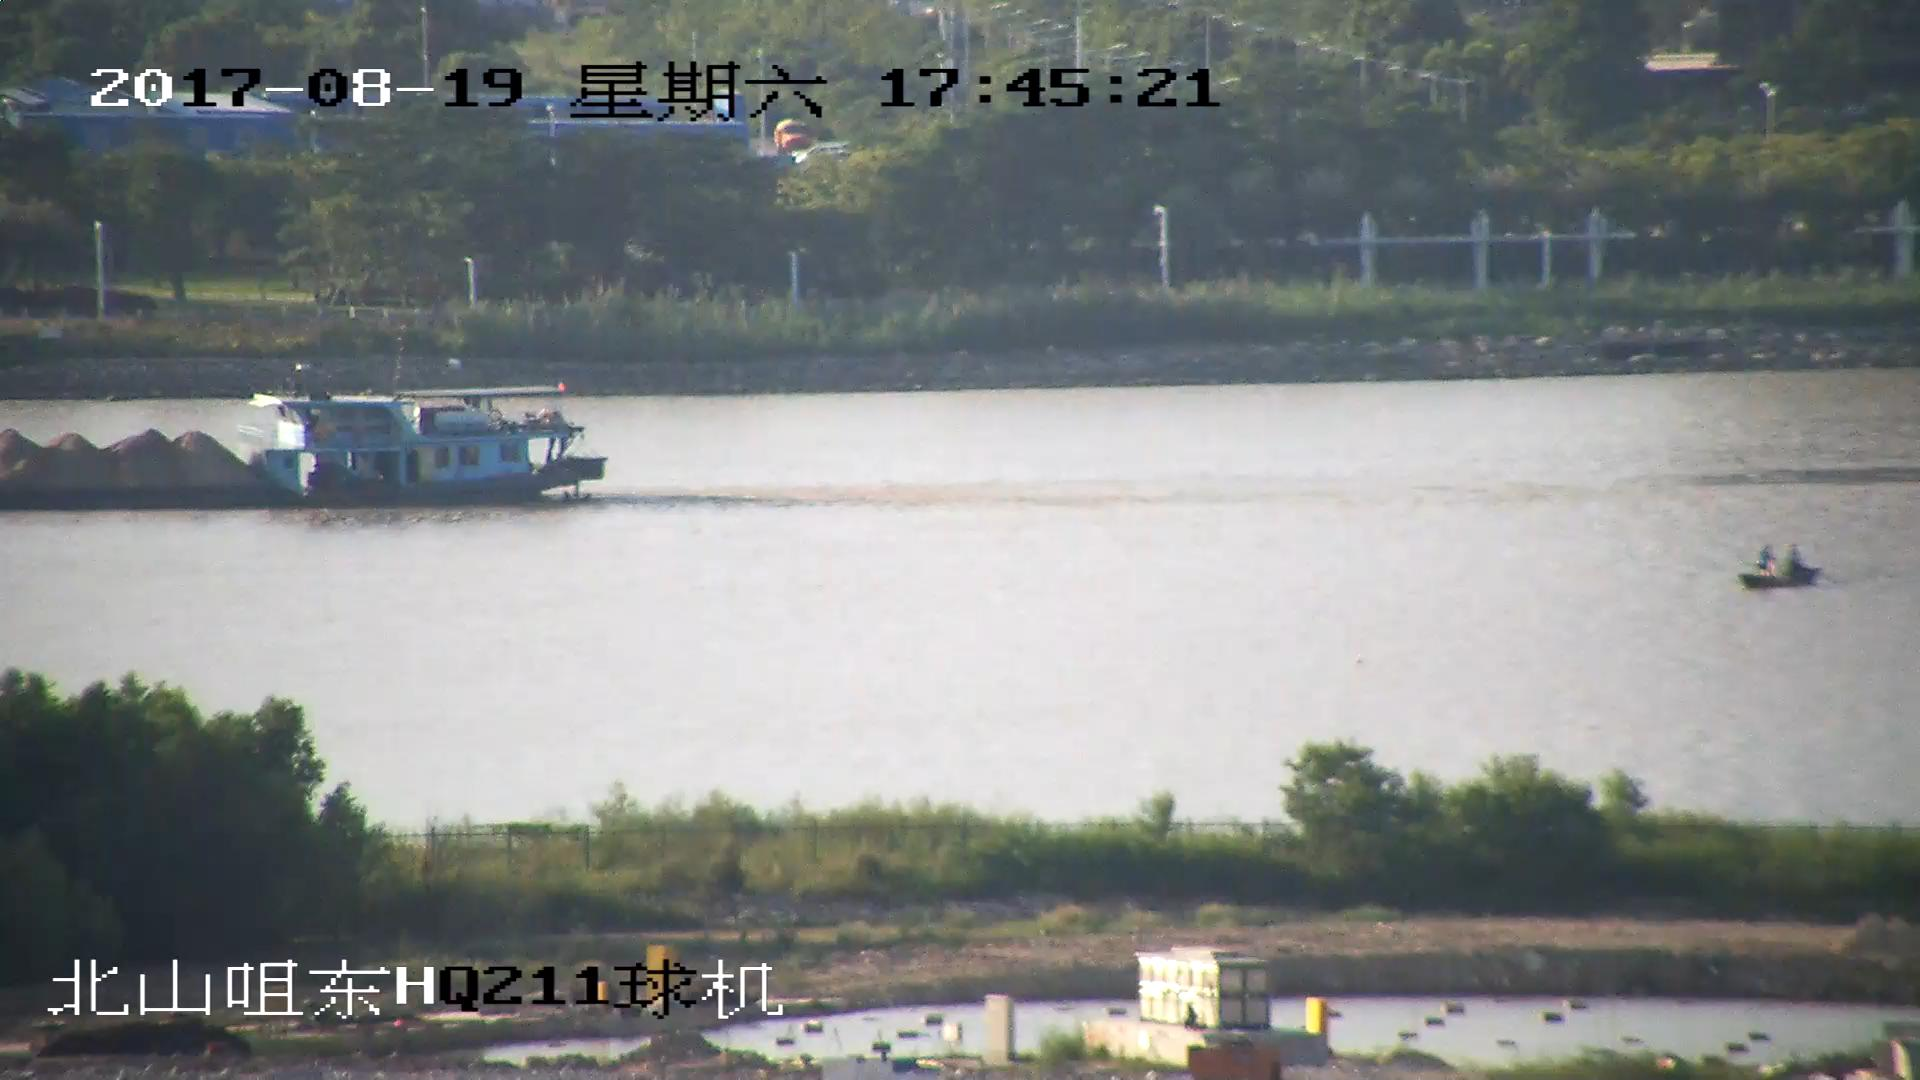fishing boat: (1738, 542, 1822, 594)
ore carrier: (1, 364, 610, 512)
